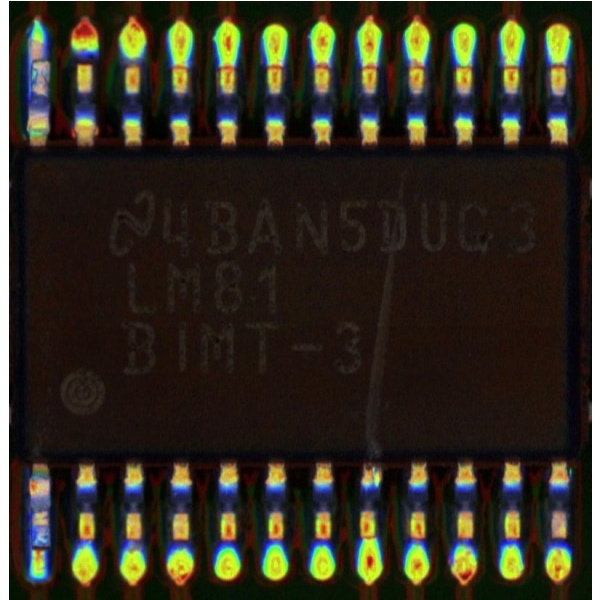Bad_podu: (32, 45, 44, 72), (36, 535, 45, 562)
